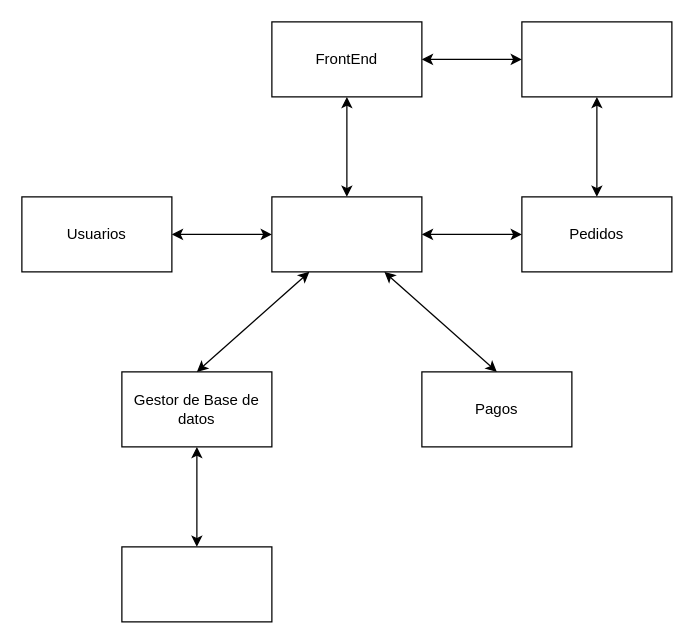
Some shapes in this 694 by 644 pixel diagram are drawn without their labels. Each missing label, with the centre of its shape:
"API Gateway" goes at (346,234).
"API Recomendaciones" goes at (596,59).
"Base de datos" goes at (196,584).
